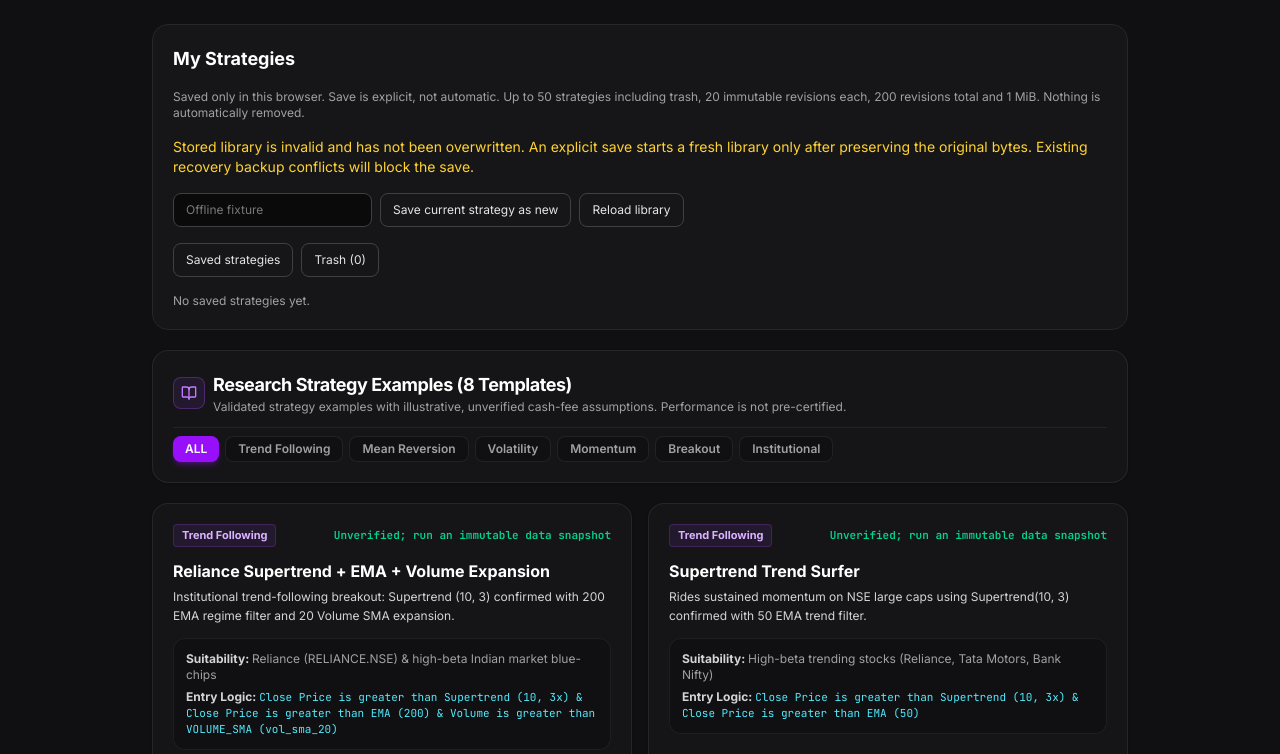
My Strategies alongside immutable templates › retains corrupt bytes on load and backs up originals before explicit save
This screenshot has width=1280, height=754.
Check: the message shows "has not been overwritten", box [173, 138, 1088, 175]
Step 1. Click the button "Save current strategy as new" → [476, 210], box [380, 193, 572, 227]
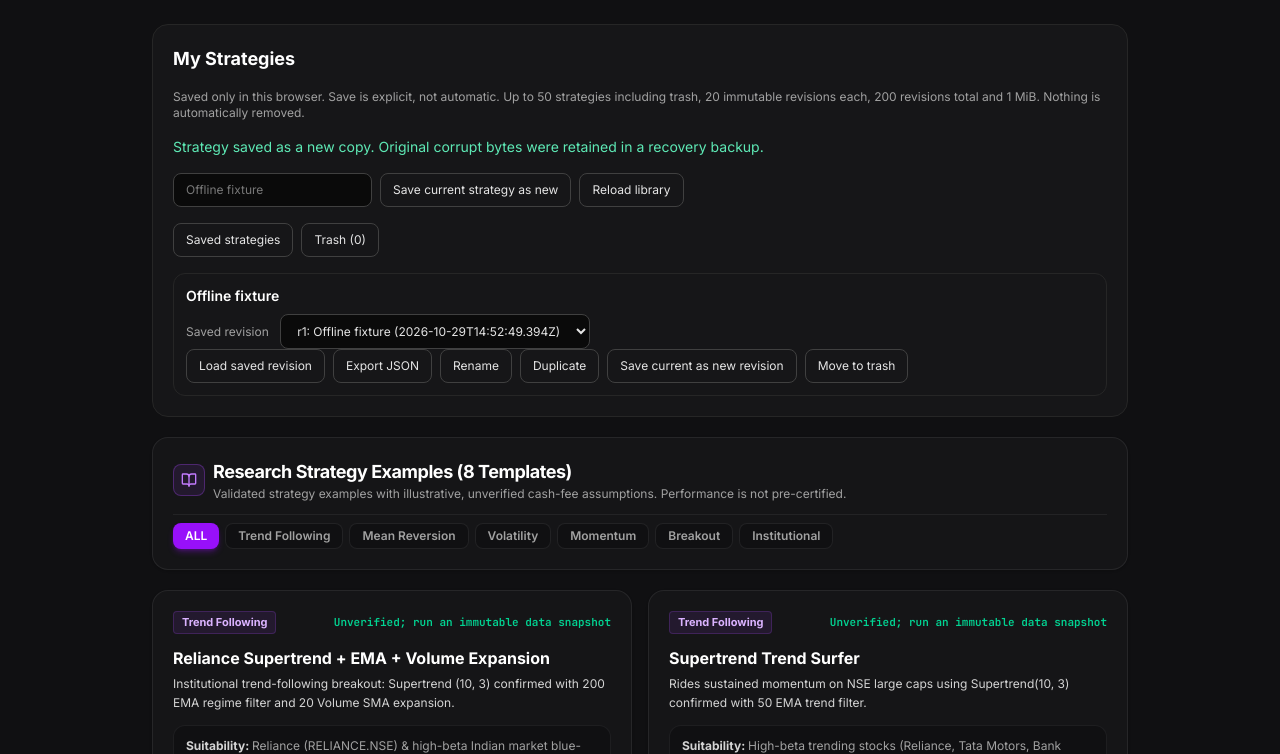
Check: the message shows "Original corrupt bytes were retained", box [173, 138, 764, 155]
